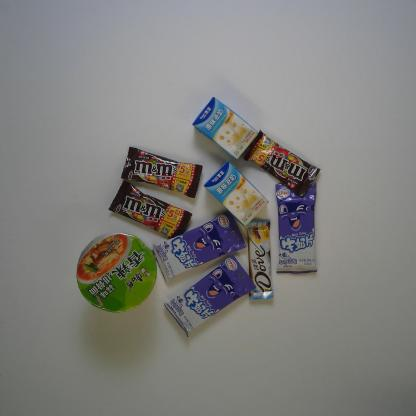Candy: (163, 254, 257, 338), (152, 209, 247, 284), (275, 182, 318, 274)
Chocolate: (242, 129, 322, 198), (108, 180, 193, 242), (120, 146, 203, 198), (245, 218, 274, 301)
Instant Noodles: (76, 231, 158, 313)
Milk: (203, 161, 271, 228), (192, 96, 259, 162)
